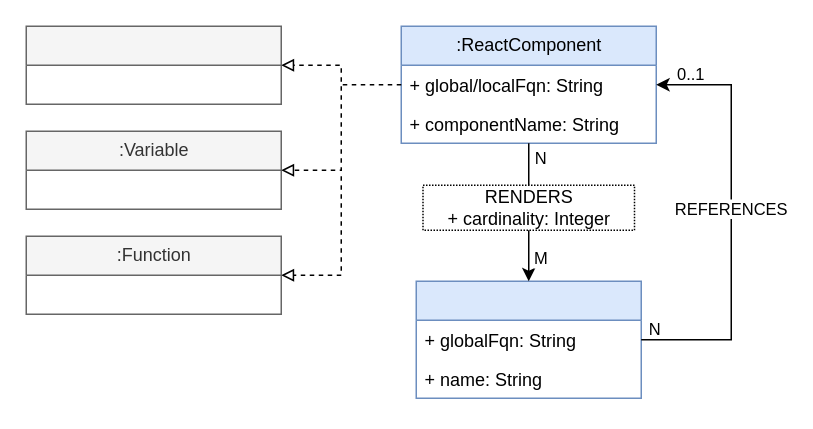
Image size: 813x429. Some labels were removed from this diagram. Each missing label, with the box of its shape:
:Class: (25, 25, 281, 104)
:JSXElementType: (415, 280, 641, 398)
